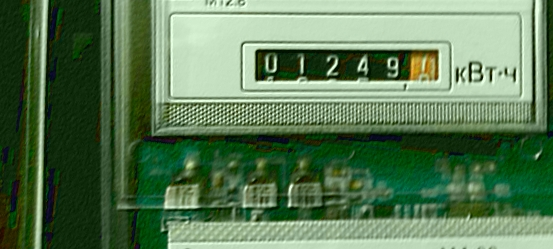0: (259, 49, 281, 77)
1: (291, 52, 309, 78)
2: (321, 53, 344, 82)
4: (353, 51, 374, 80)
7: (414, 51, 432, 76)
9: (382, 55, 403, 82)
screen: (228, 21, 469, 123)
